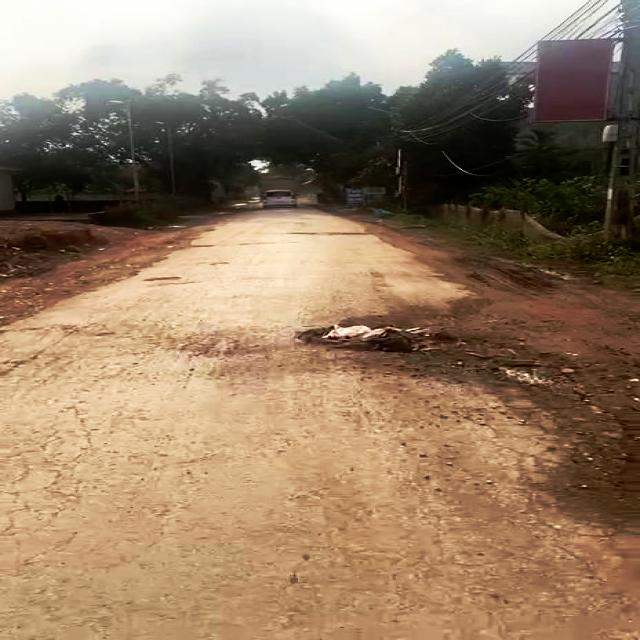pothole: (296, 324, 468, 352)
